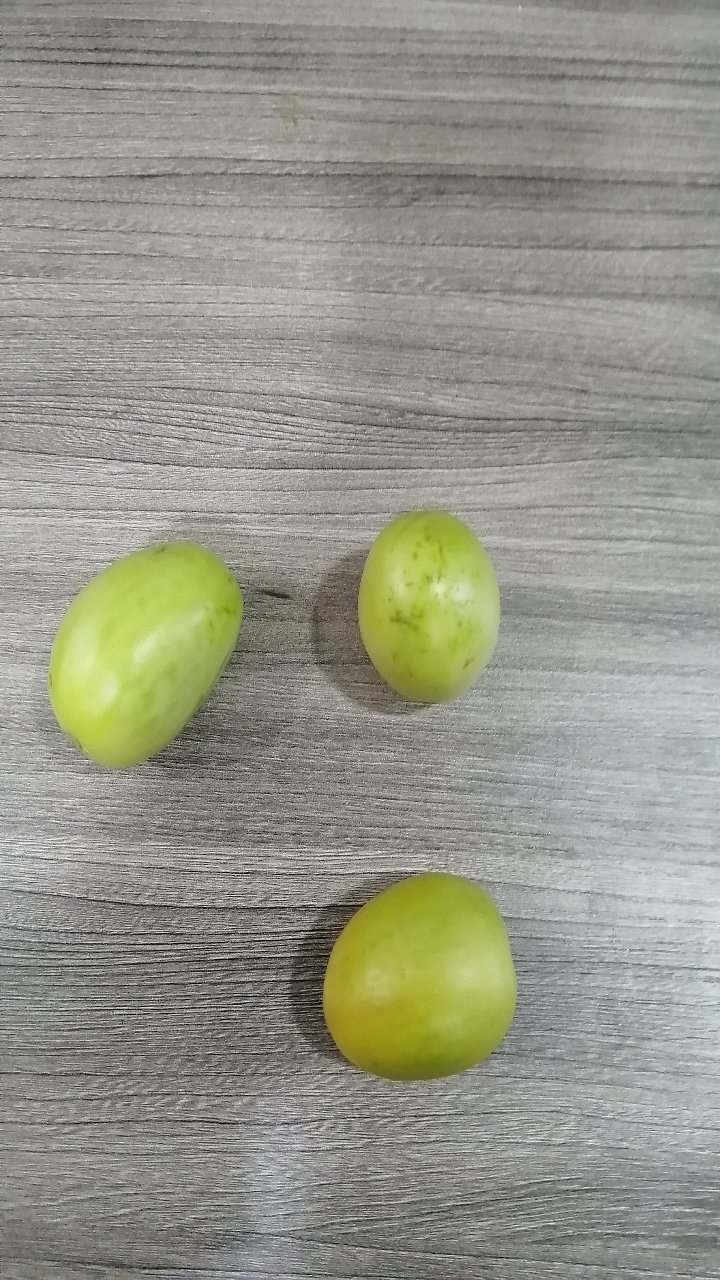tomateVerde: (12, 523, 249, 794), (297, 842, 541, 1089), (323, 492, 535, 719)
